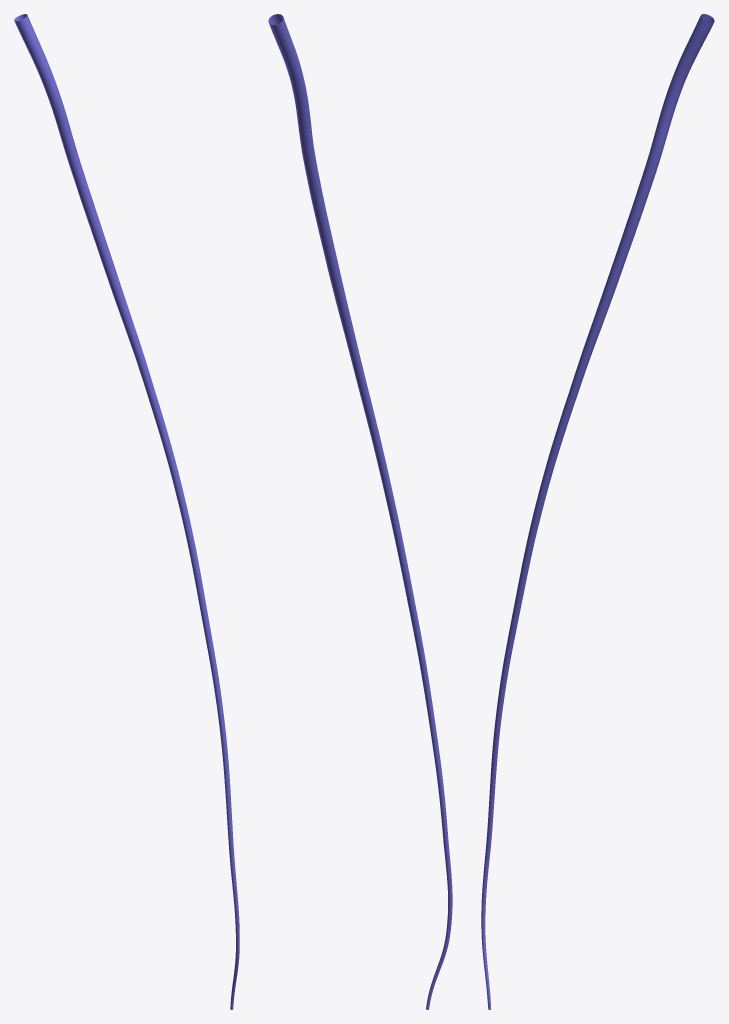
File: Lateral_thoracic_artery.r_BezierCurve.312.glb
3 renders of one model, left to right at view 1: azimuth 90°, elevation 25°; view 2: azimuth 150°, elevation 25°; view 3: azimuth 270°, elevation 25°, orthographic. The views are drawn at different scales.
Parts seen in each view (by area): view 1: Lateral_thoracic_artery.r_BezierCurve.312; view 2: Lateral_thoracic_artery.r_BezierCurve.312; view 3: Lateral_thoracic_artery.r_BezierCurve.312.
Part boxes in pixels (bbox=[...]): Lateral_thoracic_artery.r_BezierCurve.312: bbox=[14, 14, 239, 1009]; Lateral_thoracic_artery.r_BezierCurve.312: bbox=[268, 14, 452, 1009]; Lateral_thoracic_artery.r_BezierCurve.312: bbox=[481, 14, 714, 1009].
Size of the model in its own units: 0.0141 by 0.2209 by 0.0462.
